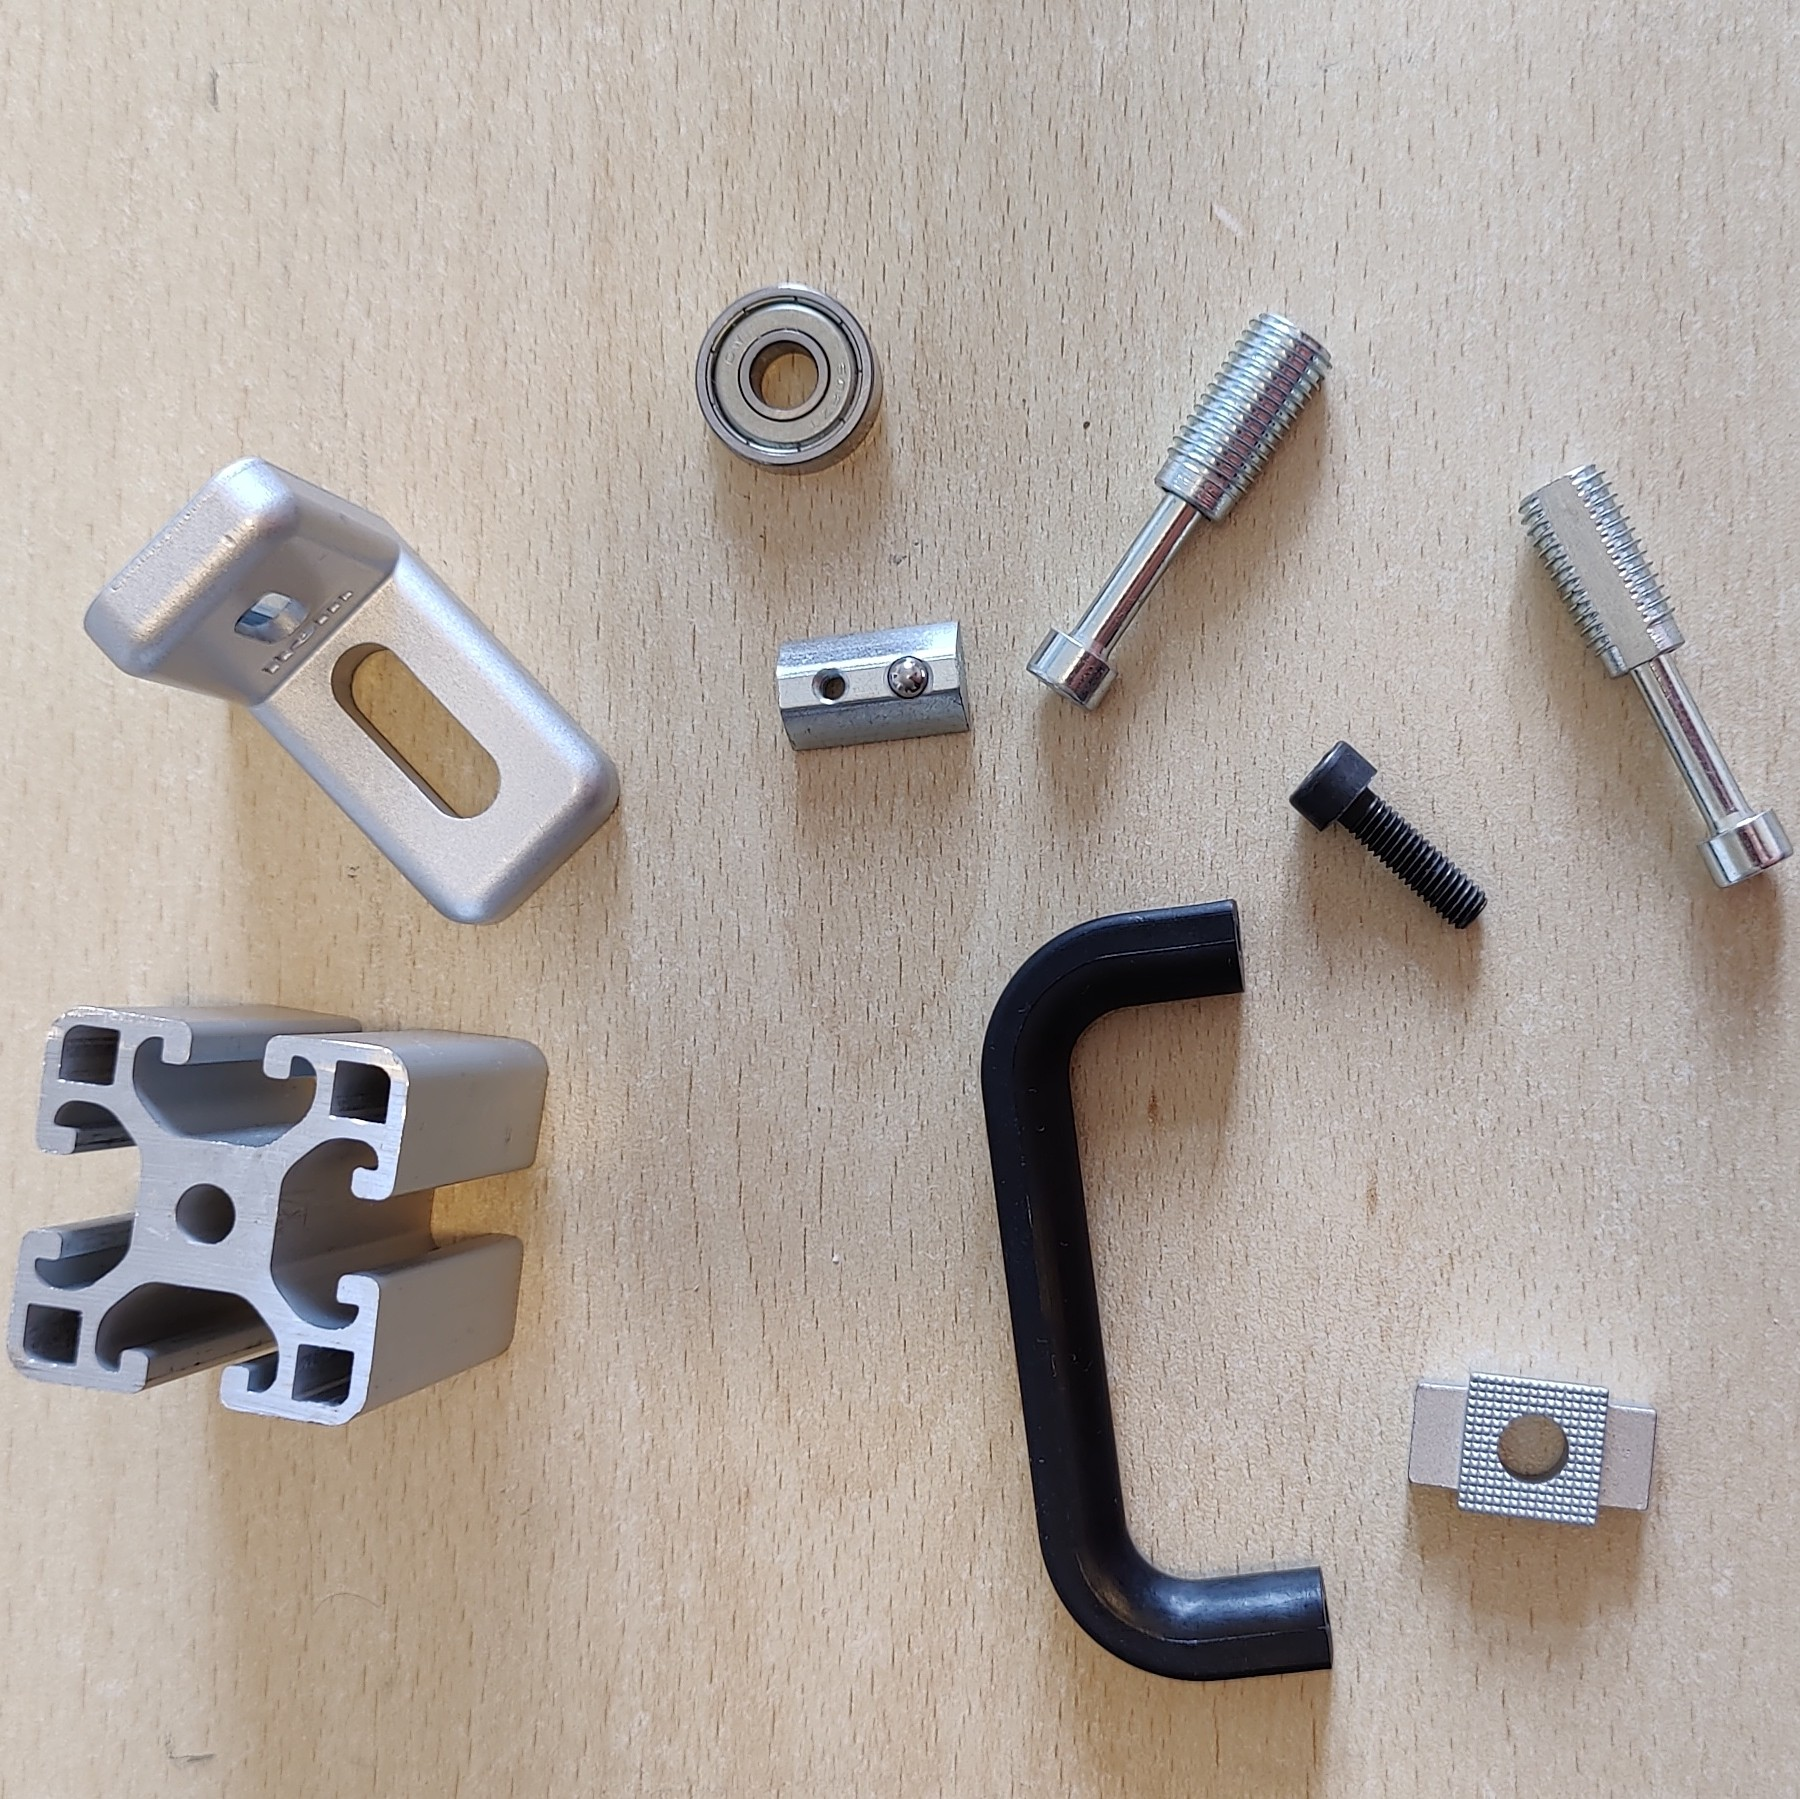Aluminium Extension: (5, 997, 548, 1428)
Ball Bearing: (697, 280, 888, 479)
Multiwinkel: (82, 455, 623, 928)
Pull Handle: (978, 895, 1337, 1685)
Shoulder Socket Head Cap Screw: (1024, 311, 1336, 718), (1517, 460, 1797, 893)
Socket Head Cap Screw: (1285, 735, 1490, 932)
T Nut Square: (1405, 1366, 1660, 1527)
T Spring Nut: (774, 614, 977, 756)
